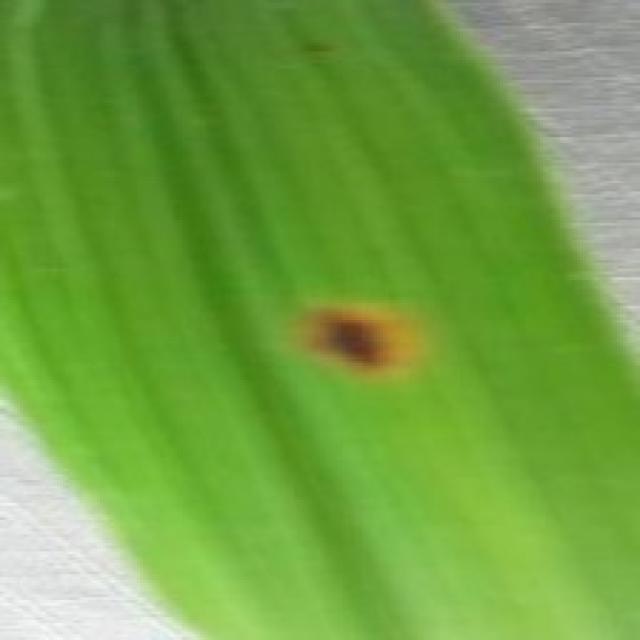Rice___Brown_Spot: (1, 0, 637, 637)
